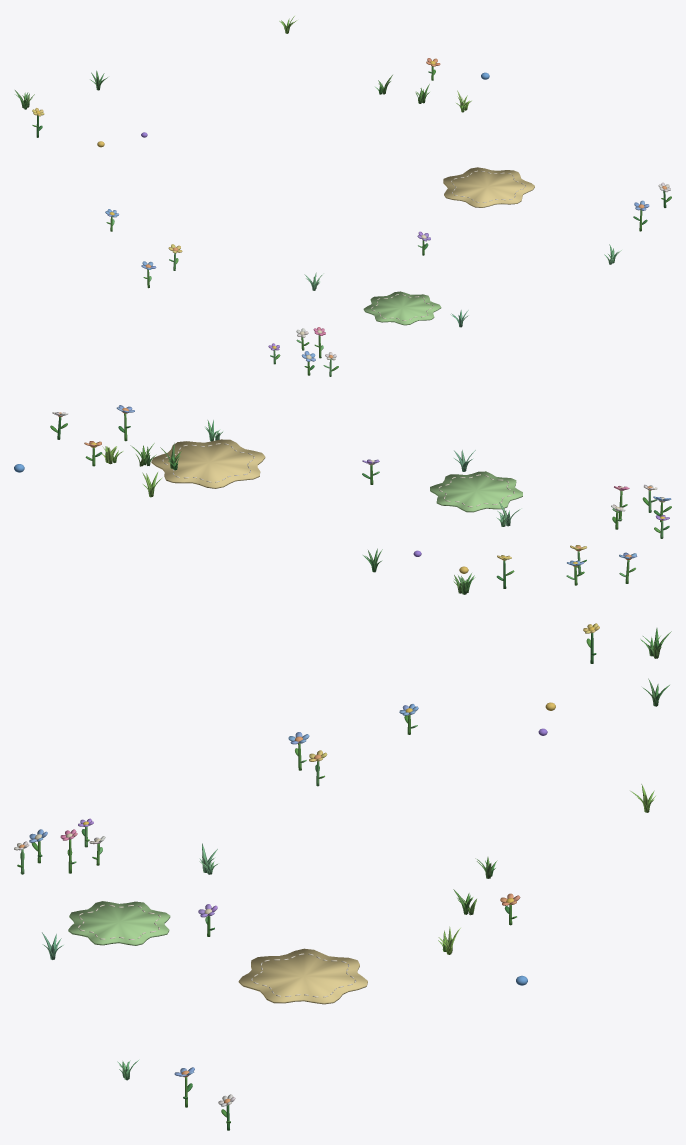
File: W4_FloraRing_9_7.fbx
3 renders of one model, top to bottom at view 1: azimuth 30°, elevation 25°; view 2: azimuth 150°, elevation 25°; view 3: azimuth 270°, elevation 25°, orthographic. The views are drawn at different scales.
Parts seen in each view (by area): view 1: W4_FloraRing_9_7; view 2: W4_FloraRing_9_7; view 3: W4_FloraRing_9_7.
Boxes of the visible parts, left/top/right/bottom form: W4_FloraRing_9_7: left=15, top=16, right=671, bottom=376; W4_FloraRing_9_7: left=14, top=405, right=671, bottom=594; W4_FloraRing_9_7: left=14, top=623, right=671, bottom=1130.
Size of the model in its own units: 3.98 by 1.13 by 3.22.
